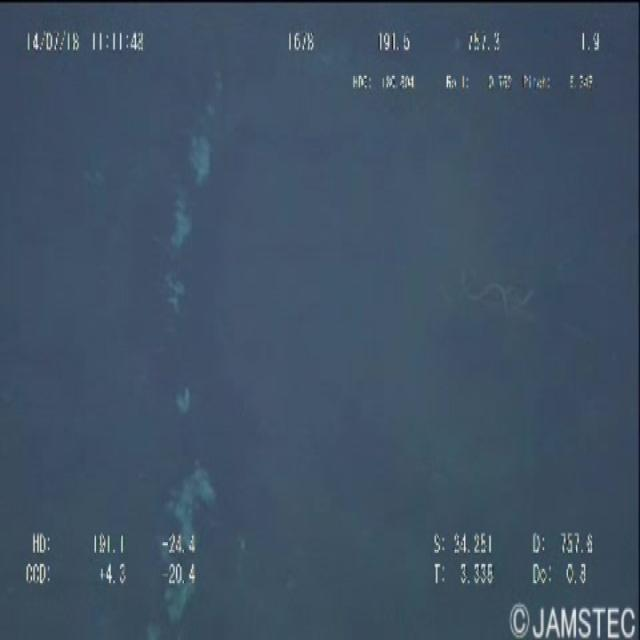Wood: (149, 58, 232, 640)
